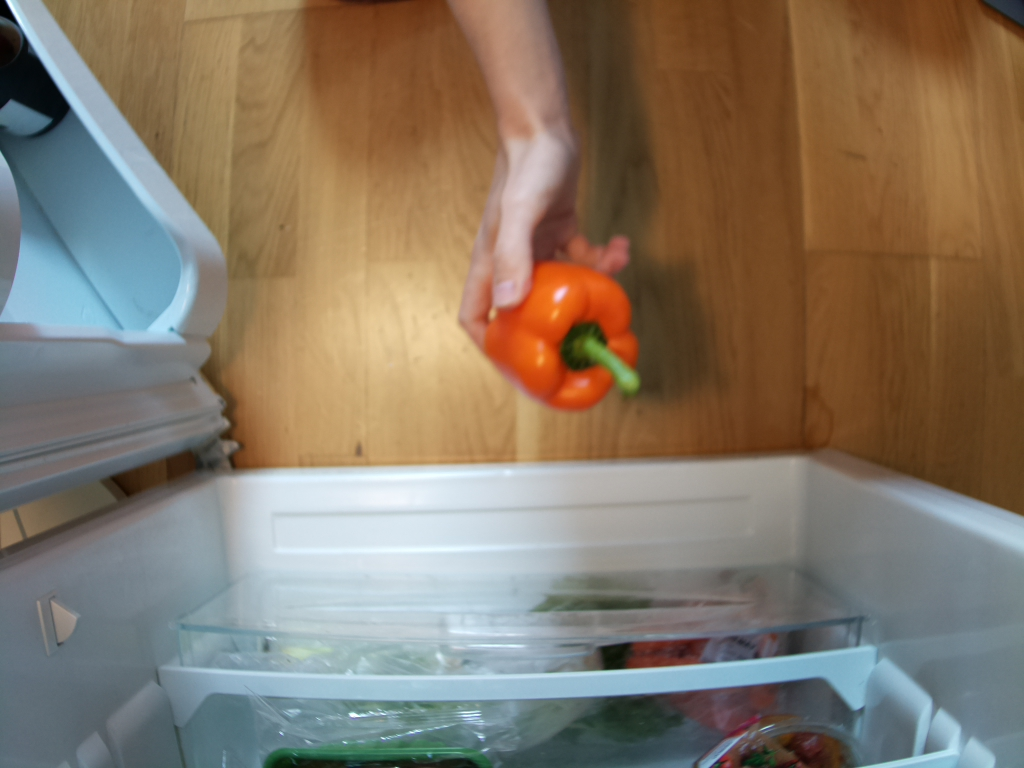pepper: (481, 258, 644, 410)
